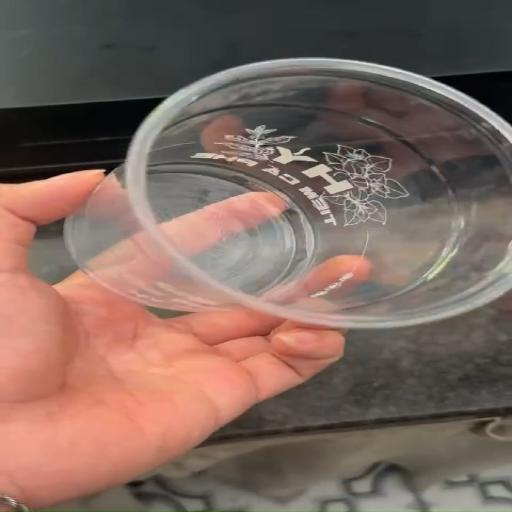ly_nhua: (66, 58, 511, 328), (321, 144, 409, 225)
